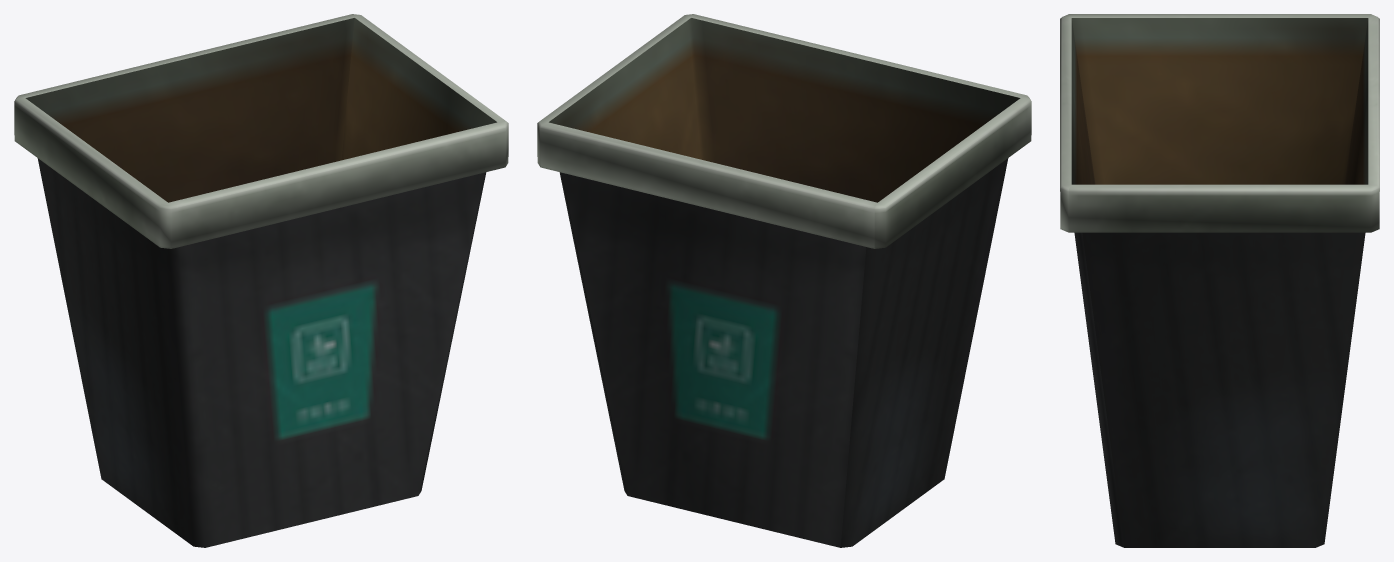
The model's file is PiErSenGongYu_01_lajitong_01.FBX.
3 views of the same model, side by side, from view 1: azimuth 30°, elevation 25°; view 2: azimuth 150°, elevation 25°; view 3: azimuth 270°, elevation 25° (orthographic). The views are drawn at different scales.
Visible parts, largest first — view 1: PiErSenDeGongYu_lajitong_01; view 2: PiErSenDeGongYu_lajitong_01; view 3: PiErSenDeGongYu_lajitong_01.
Boxes of the visible parts, x1=… form: PiErSenDeGongYu_lajitong_01: x1=14, y1=14, x2=508, y2=547; PiErSenDeGongYu_lajitong_01: x1=537, y1=14, x2=1031, y2=547; PiErSenDeGongYu_lajitong_01: x1=1060, y1=14, x2=1379, y2=547.
Size of the model in its own units: 152 by 156 by 116.
